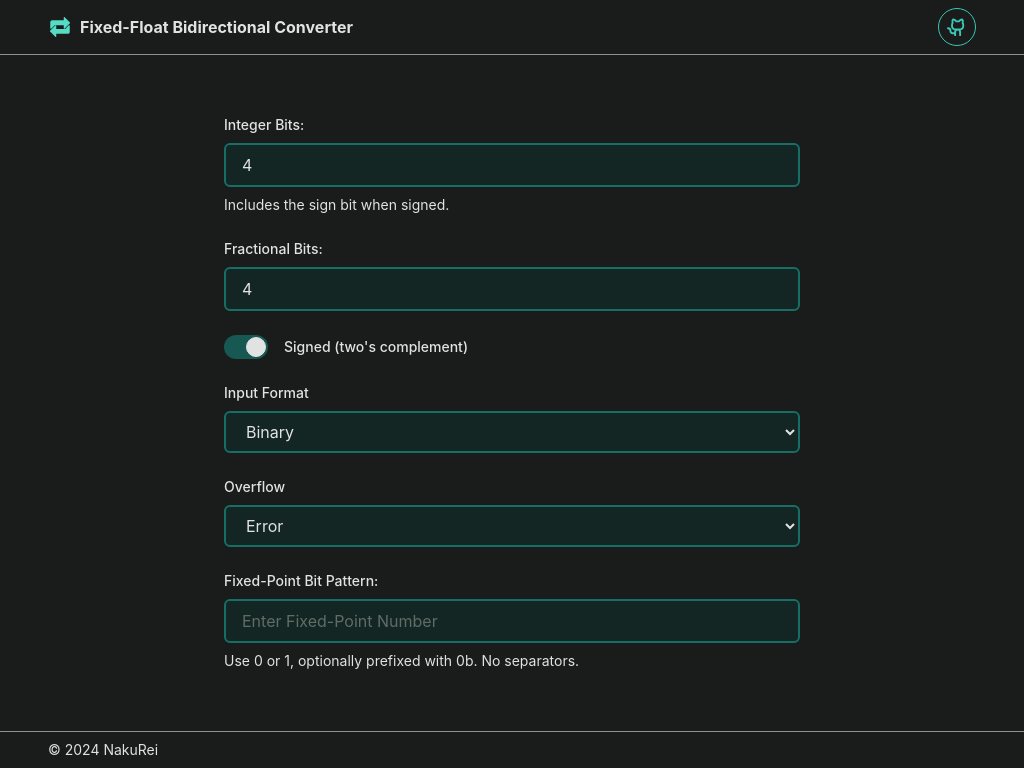
Test: describes 1 with wrap
This screenshot has width=1024, height=768.
Select "Hexadecimal" in the dropdown labelled "Input Format" at (512, 432), box [224,411,800,453]
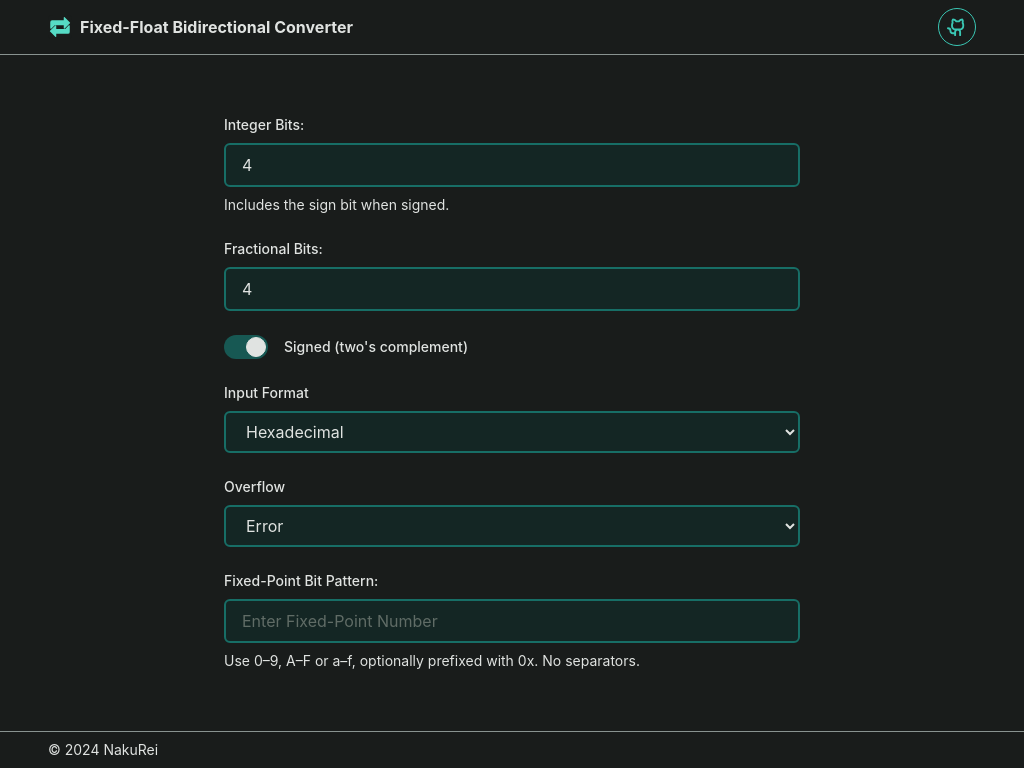
Select "Wrap" in the dropdown labelled "Overflow" at (512, 526), box [224,505,800,547]
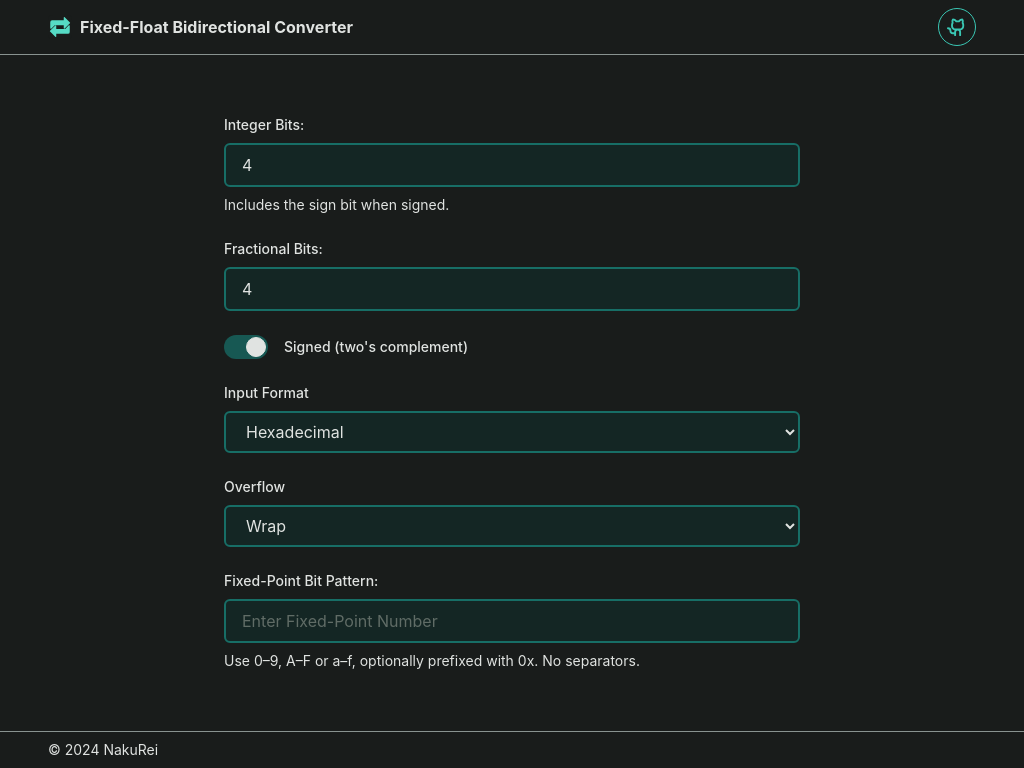
Type "1" into the field labelled "Fixed-Point Bit Pattern:" at (512, 621), box [224,599,800,643]
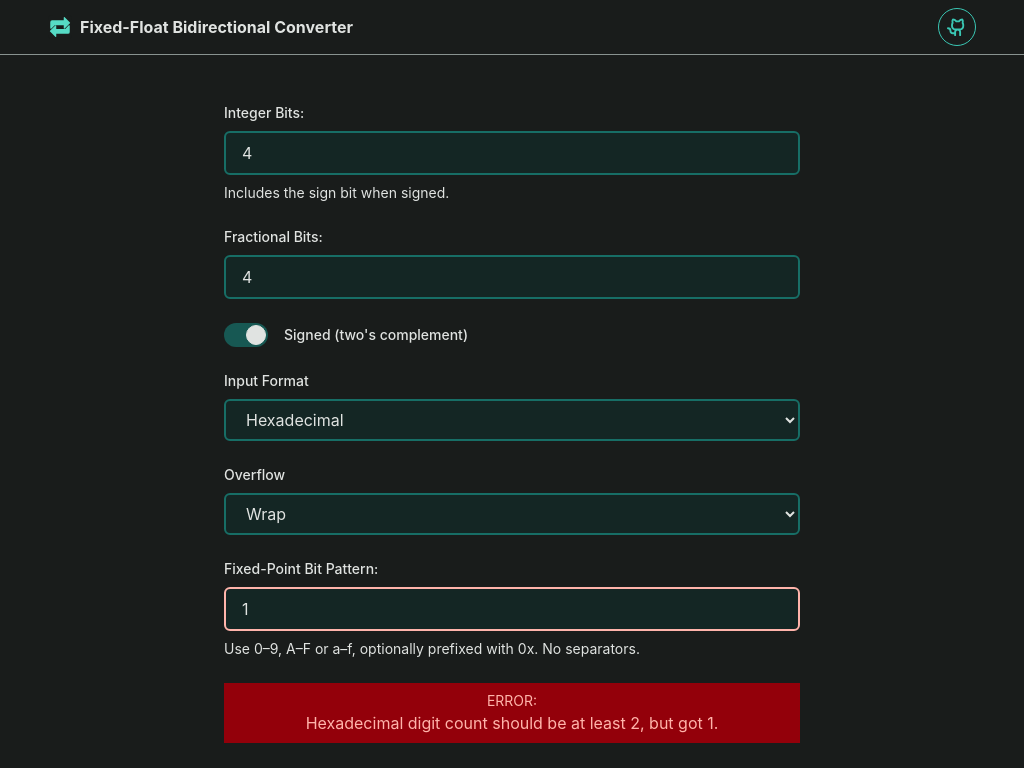
Replace the text in the field labelled "Fixed-Point Bit Pattern:" with "001" at (512, 609), box [224,587,800,631]
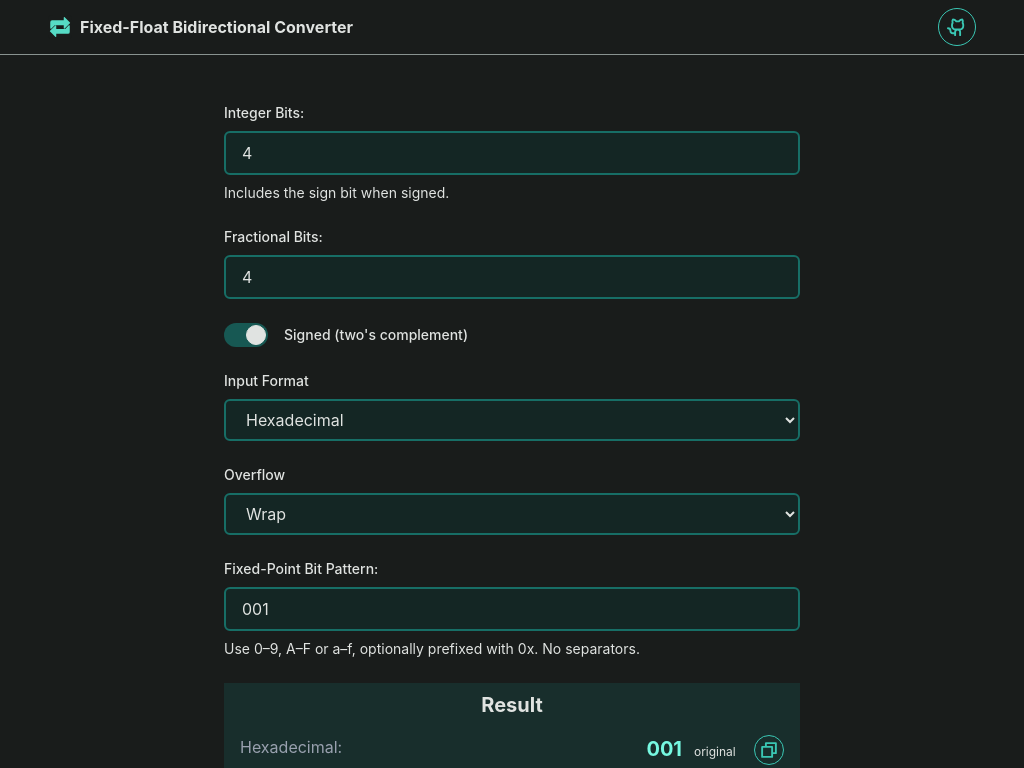
Now the heading "Result" is shown, box [481,693,543,717]
